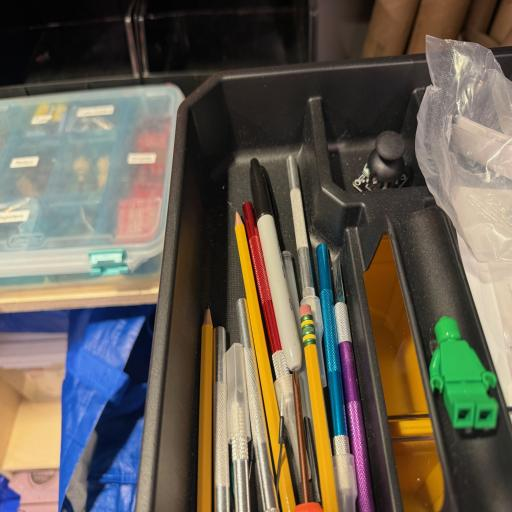Lego-Dude: (429, 316, 498, 429)
